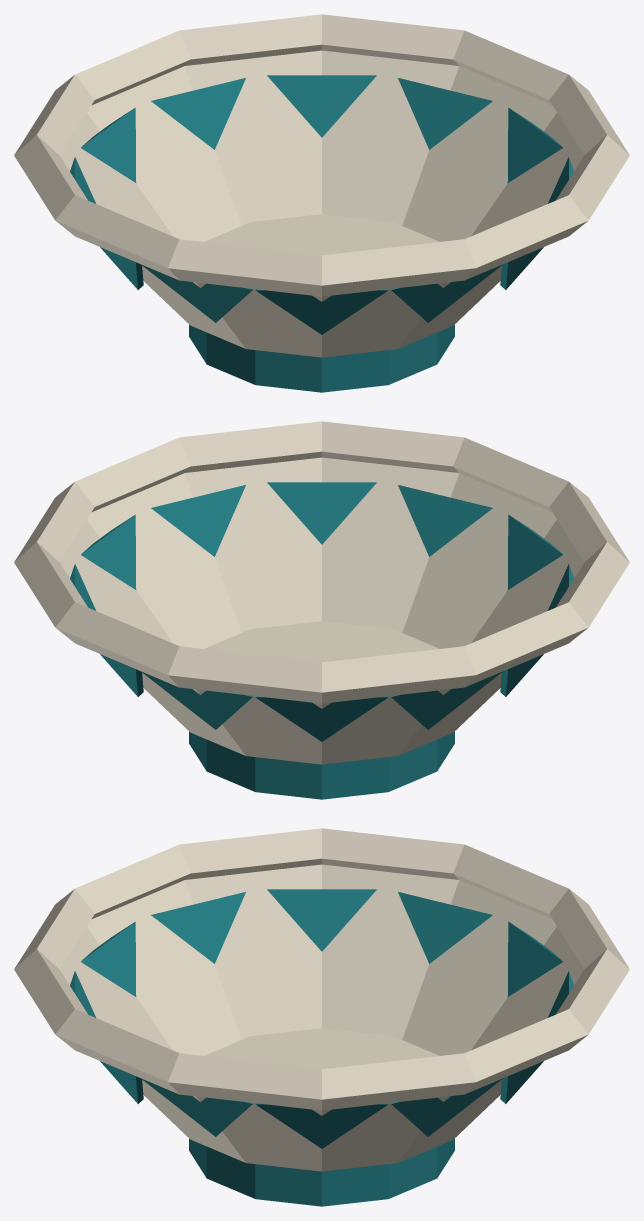
Rendered from fruit_bowl.glb.
3 renders of one model, top to bottom at view 1: azimuth 30°, elevation 25°; view 2: azimuth 150°, elevation 25°; view 3: azimuth 270°, elevation 25°, orthographic.
Visible parts, largest first — view 1: fruit_bowl; view 2: fruit_bowl; view 3: fruit_bowl.
Boxes of the visible parts, x1,y1,x2,y2 form: fruit_bowl: (14,14,629,392); fruit_bowl: (14,421,629,799); fruit_bowl: (14,828,629,1206).
Bounding box in the file's own units: 0.324 × 0.117 × 0.324.
